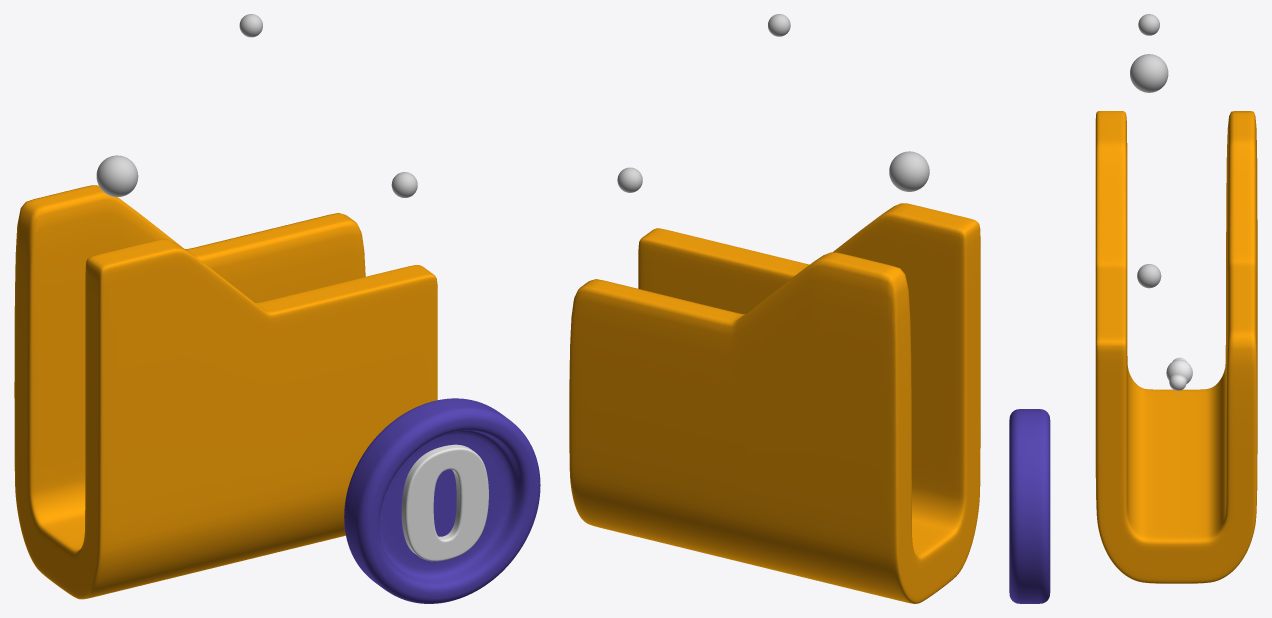
The model's file is file-not-found-animated-3d-icon-109213256111.glb.
3 renders of one model, left to right at view 1: azimuth 30°, elevation 25°; view 2: azimuth 150°, elevation 25°; view 3: azimuth 270°, elevation 25°, orthographic. The views are drawn at different scales.
Visible parts, largest first — view 1: Folder.001, Base.004, Zero.002, Particle.001; view 2: Folder.001, Particle.001; view 3: Folder.001, Base.004, Particle.001, Smoke.001.
Boxes of the visible parts, <box> form: Folder.001: <box>14,185,437,599</box>; Base.004: <box>344,398,540,603</box>; Zero.002: <box>401,444,488,561</box>; Particle.001: <box>96,14,417,197</box>; Folder.001: <box>569,203,980,603</box>; Particle.001: <box>617,14,929,192</box>; Folder.001: <box>1095,111,1257,583</box>; Base.004: <box>1009,409,1050,603</box>; Particle.001: <box>1130,14,1168,288</box>; Smoke.001: <box>1166,357,1192,390</box>.
Size of the model in its own units: 1.75 by 2.38 by 1.02.
